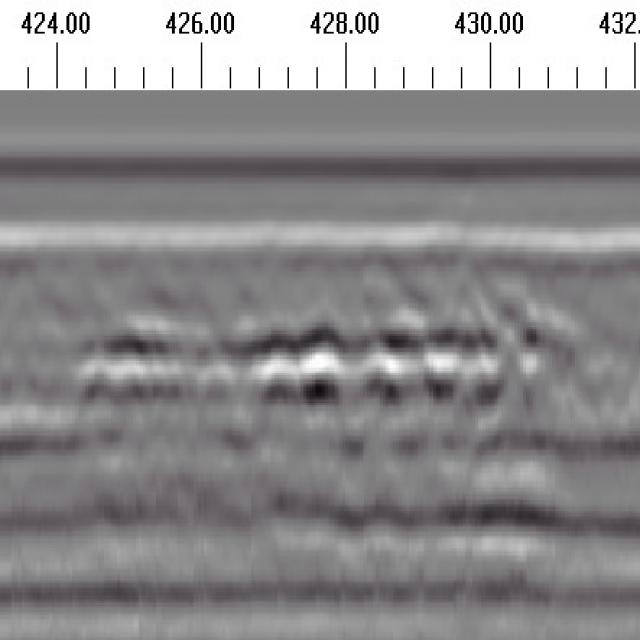loose: (89, 301, 560, 413)
